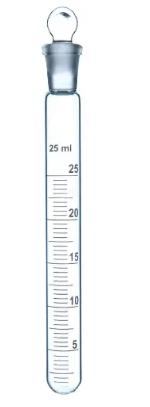Test tube: (22, 10, 101, 396)
